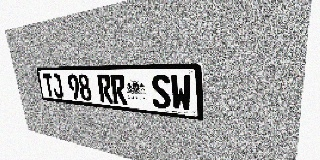8: (77, 74, 92, 101)
9: (67, 74, 81, 100)
J: (51, 74, 64, 98)
R: (110, 74, 127, 105), (97, 74, 113, 103)
S: (151, 74, 171, 109)
T: (42, 74, 55, 97)
W: (170, 74, 192, 112)
